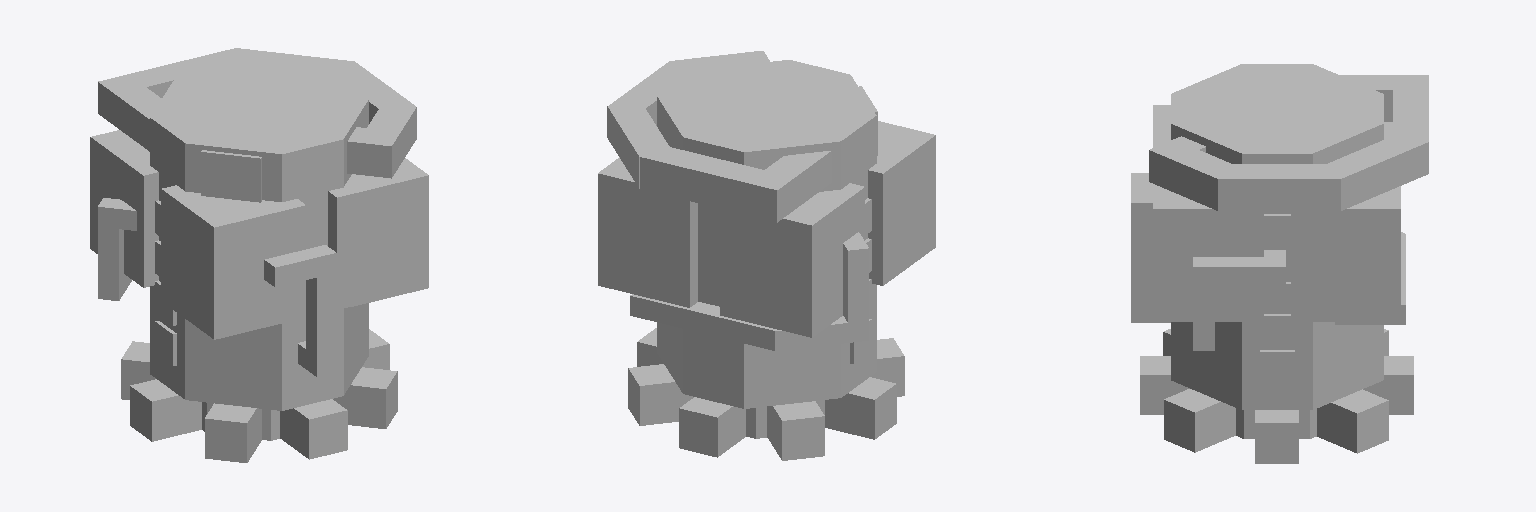
File: coredrill_engine.obj
3 views of the same model, side by side, from view 1: azimuth 30°, elevation 25°; view 2: azimuth 150°, elevation 25°; view 3: azimuth 270°, elevation 25° (orthographic).
Visible parts, largest first — view 1: cube; view 2: cube; view 3: cube.
Boxes of the visible parts, x1,y1,x2,y2 form: cube: [90, 48, 428, 462]; cube: [598, 51, 935, 460]; cube: [1131, 64, 1428, 463].
Bounding box in the file's own units: 4.24 × 4.62 × 4.2.